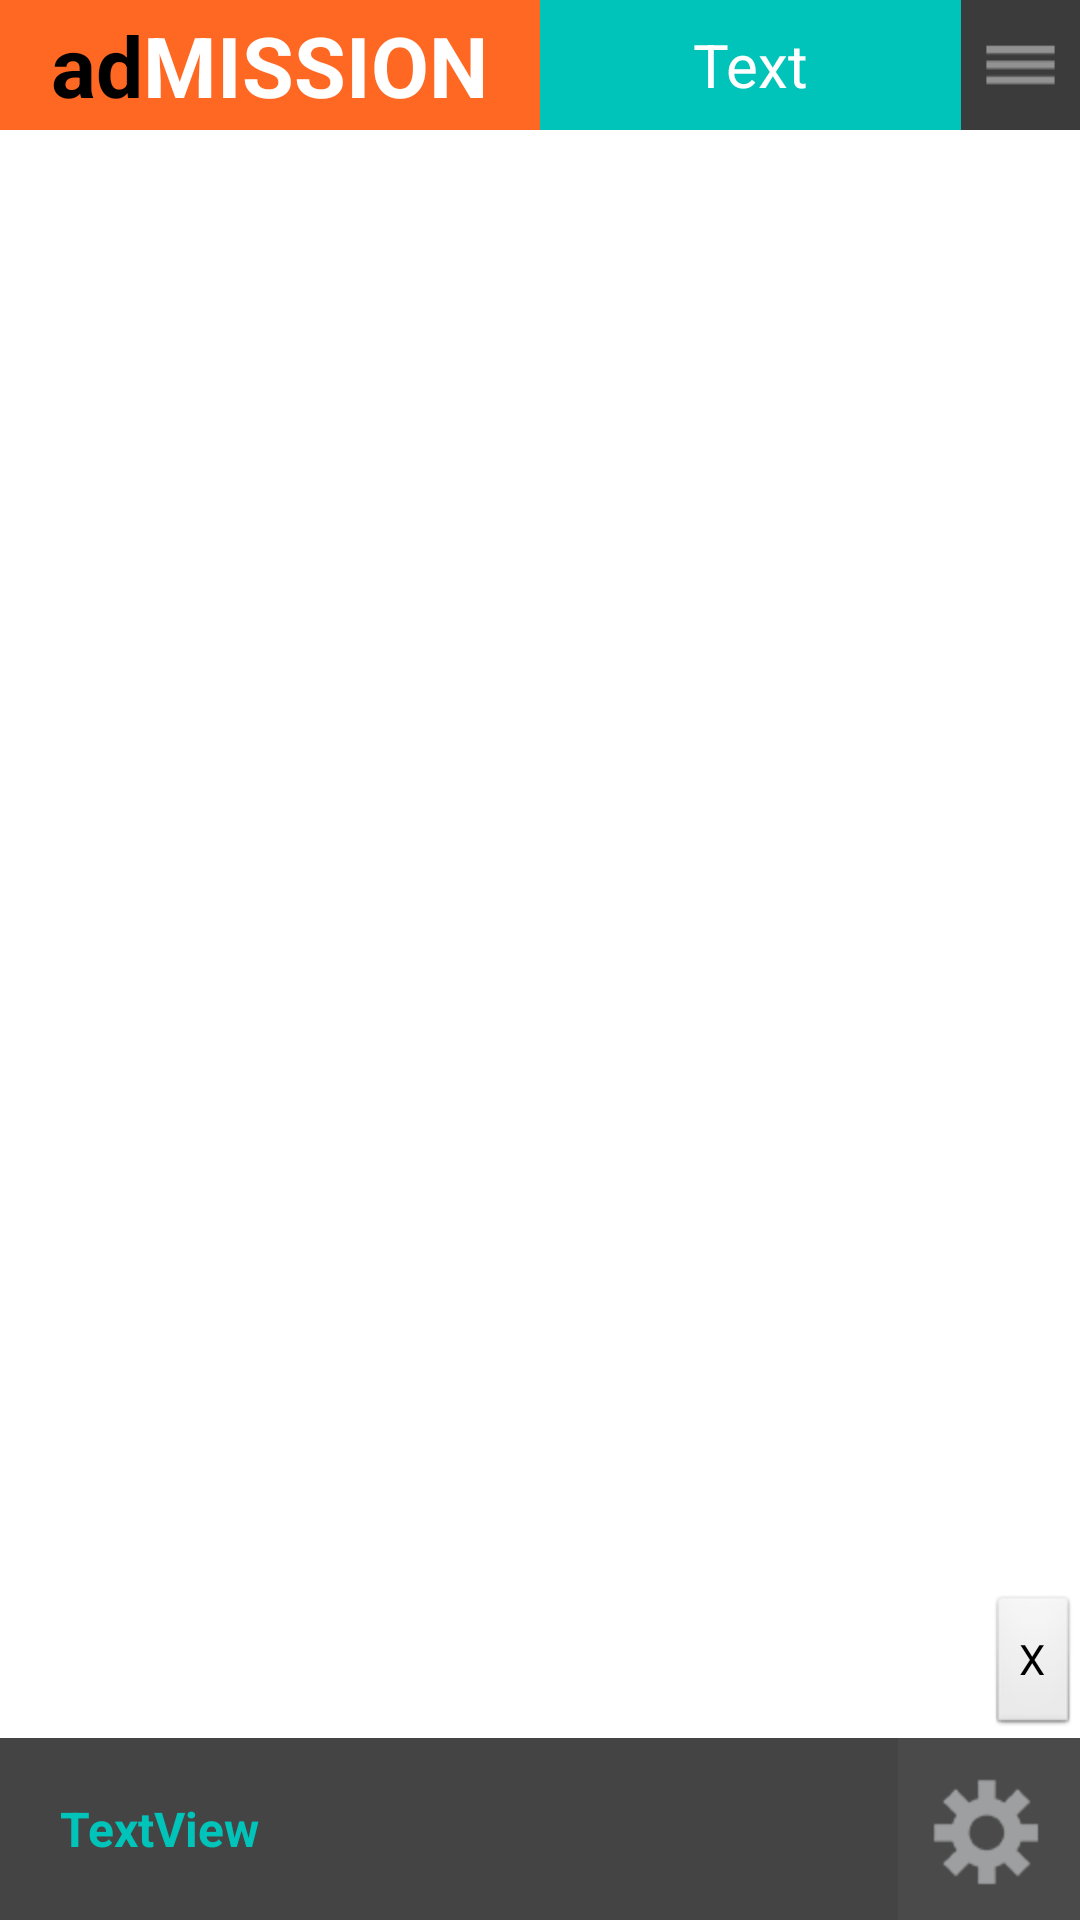

Point at icon controls on the screen. Image size 1080 × 1920, points as (x,y).
menu: (1020,65)
